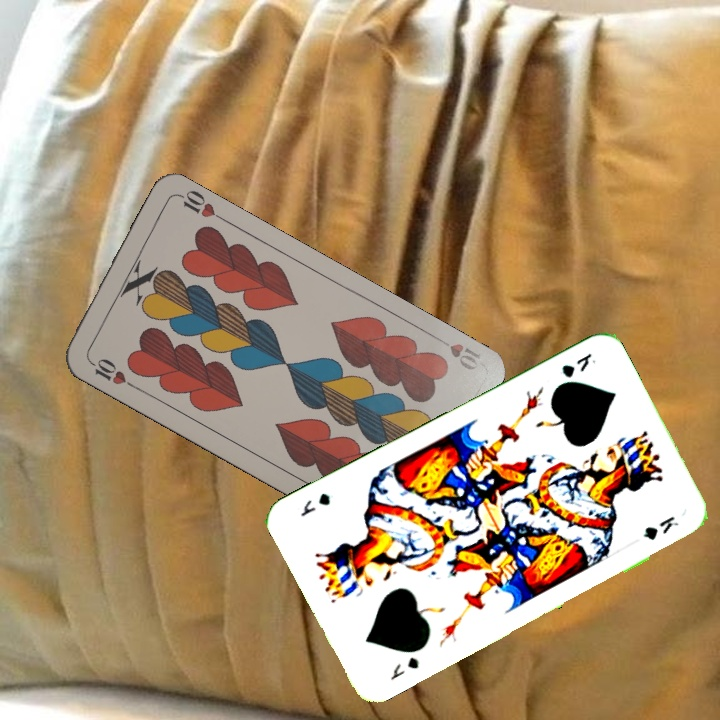GK: (557, 348, 599, 381), (386, 652, 422, 683)
H10: (430, 331, 484, 373), (84, 354, 137, 391)
